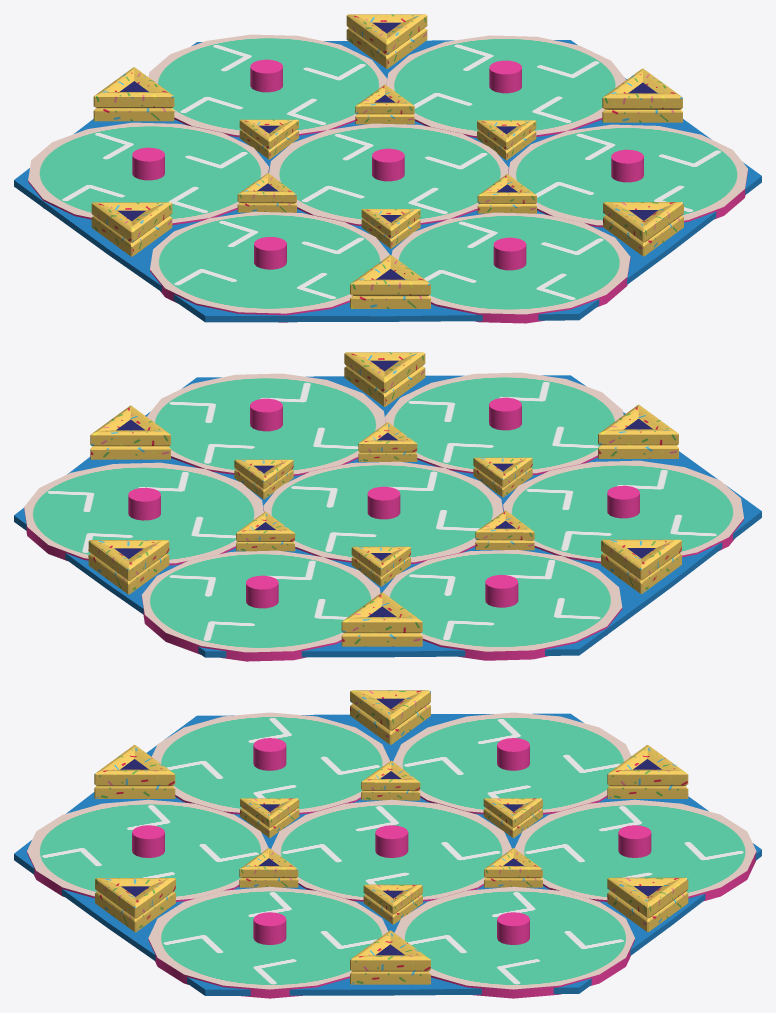
File: PLF0110024.fbx
The picture shows the model from 3 angles, top to bottom: view 1: azimuth 30°, elevation 25°; view 2: azimuth 150°, elevation 25°; view 3: azimuth 270°, elevation 25°; orthographic projection.
Parts seen in each view (by area): view 1: smPLF0110024; view 2: smPLF0110024; view 3: smPLF0110024.
Boxes of the visible parts, x1,y1,x2,y2 form: smPLF0110024: (14, 14, 761, 323); smPLF0110024: (14, 352, 761, 661); smPLF0110024: (14, 690, 761, 998).
Bounding box in the file's own units: 1907 × 114 × 2173.
1 material, 1 textured.
